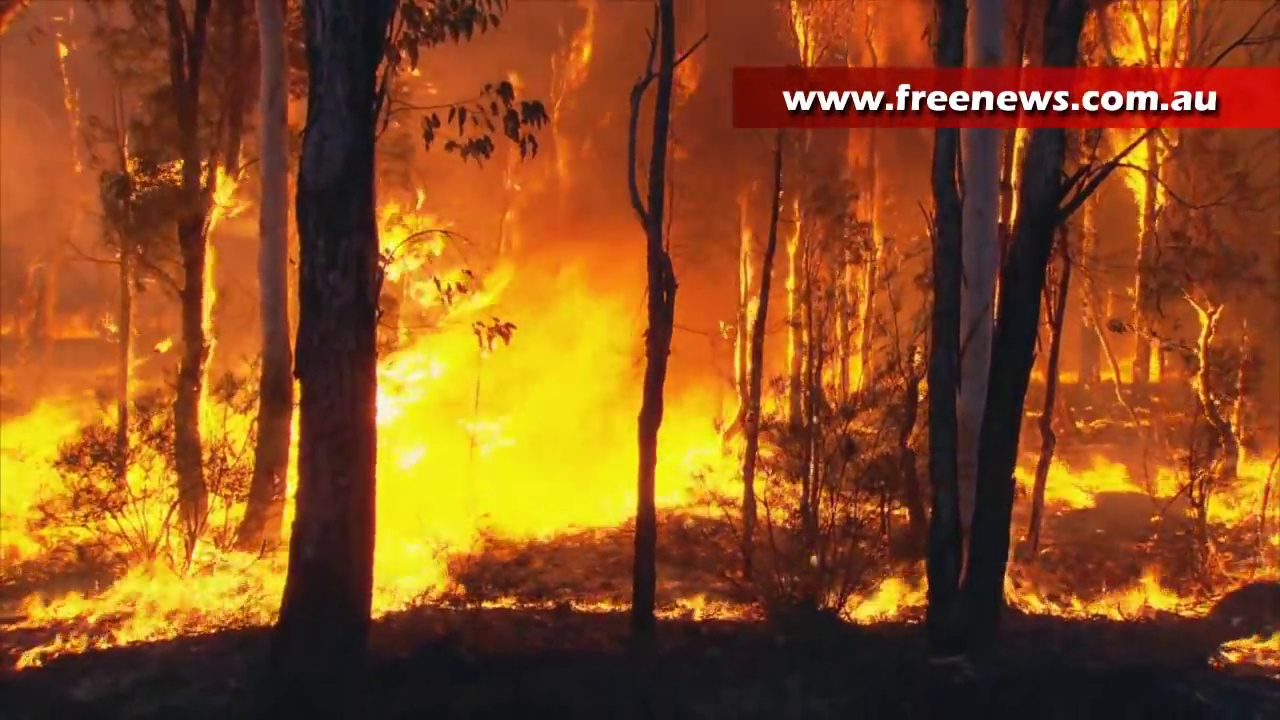fire: (372, 194, 640, 611), (1, 361, 303, 654), (1092, 3, 1182, 67), (1202, 457, 1280, 519), (1043, 460, 1132, 500), (1105, 578, 1189, 614), (736, 221, 754, 387), (857, 580, 915, 619), (676, 599, 756, 619), (1233, 633, 1280, 661), (1195, 310, 1208, 397)
